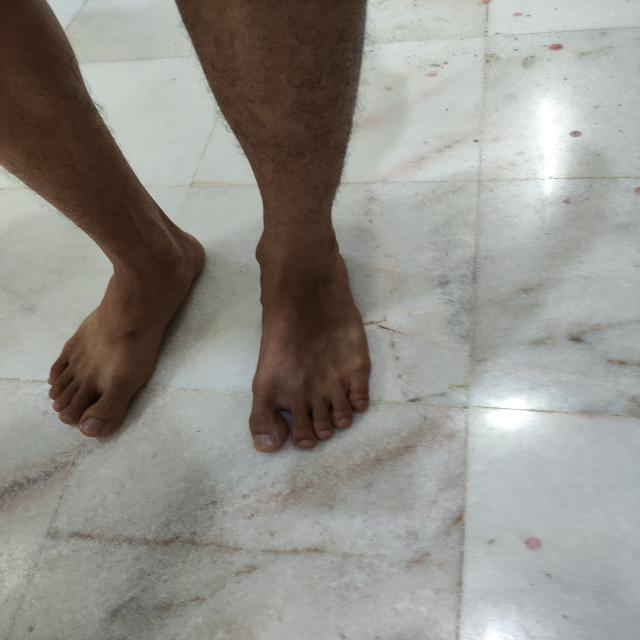No_Shoes: (30, 219, 210, 444), (232, 211, 387, 445)
